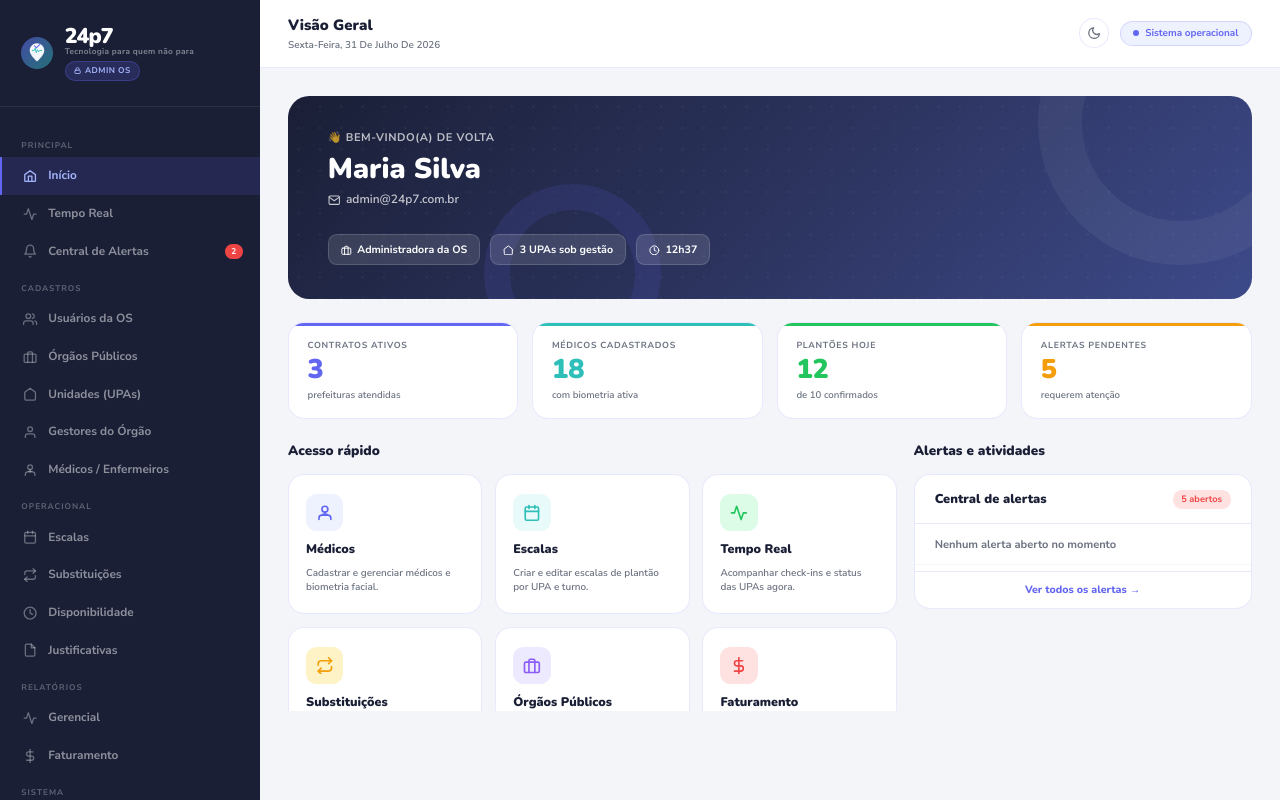
Test: <AdminPage /> › toggle de tema escuro funciona
What coordinates should you click on to do the following:
click the button titled "Tema escuro"
I would click on:
 (1094, 33)
Its box is left=1079, top=18, right=1109, bottom=48.
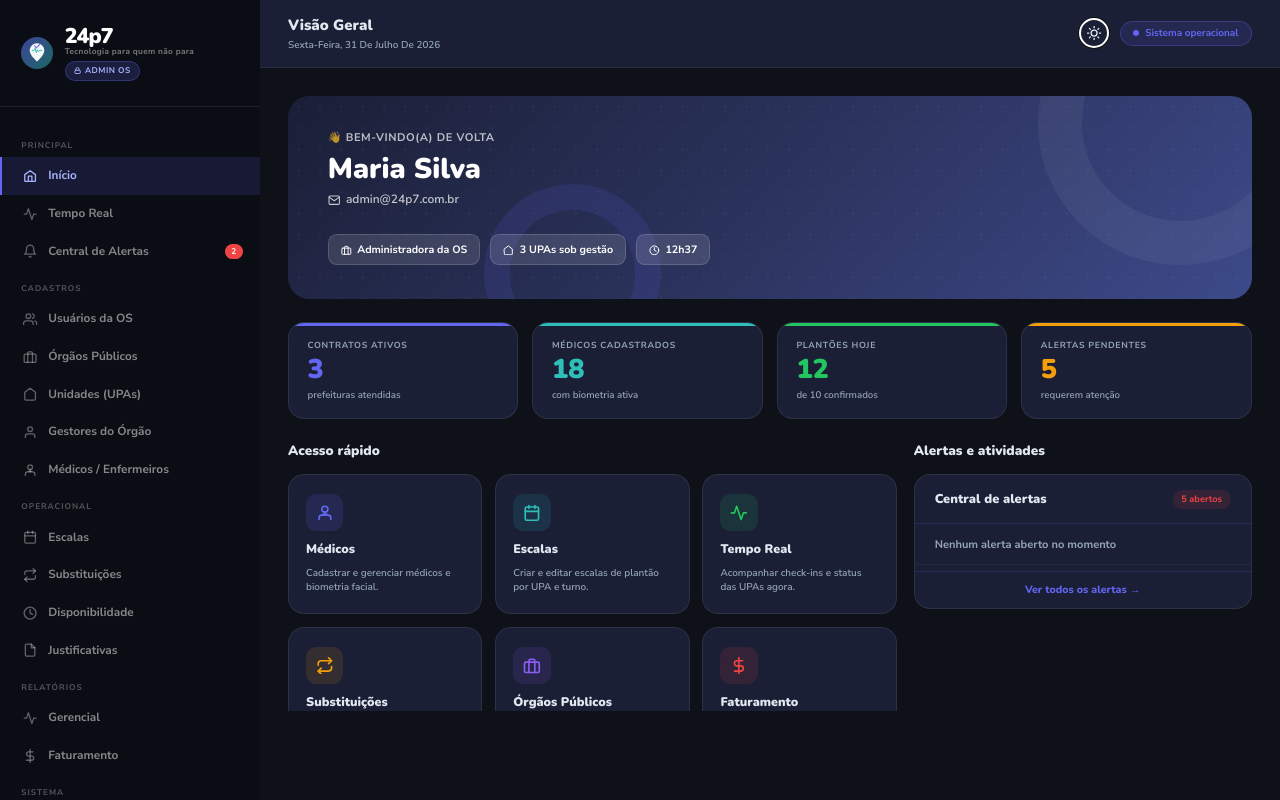
Now the button titled "Tema claro" is shown, box left=1079, top=18, right=1109, bottom=48
